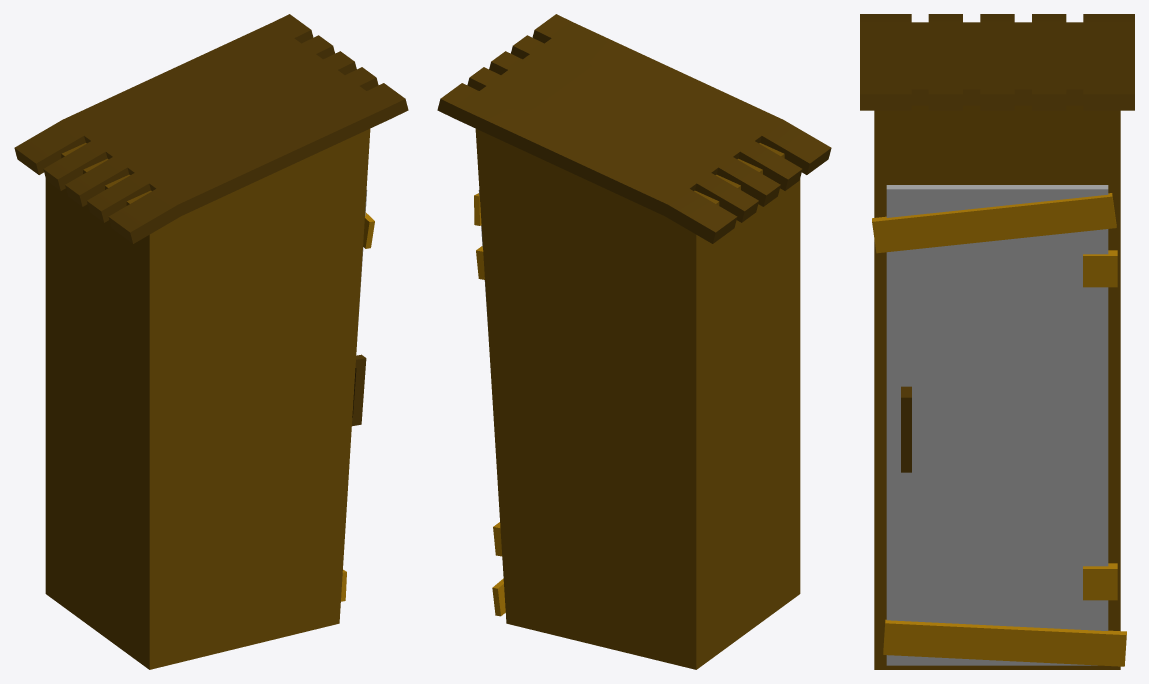
File: outhouse_placeholder.fbx
3 renders of one model, left to right at view 1: azimuth 30°, elevation 25°; view 2: azimuth 150°, elevation 25°; view 3: azimuth 270°, elevation 25°, orthographic. The views are drawn at different scales.
Parts seen in each view (by area): view 1: pCube1, pCube2, pCube8; view 2: pCube1, pCube2; view 3: pCube3, pCube1, pCube2, pCube7, pCube5, pCube10, pCube9, pCube8.
Boxes of the visible parts, left/top/right/bottom form: pCube1: left=45, top=129, right=370, bottom=669; pCube2: left=14, top=14, right=408, bottom=243; pCube8: left=352, top=354, right=366, bottom=426; pCube1: left=475, top=129, right=800, bottom=669; pCube2: left=437, top=14, right=831, bottom=243; pCube3: left=886, top=185, right=1108, bottom=665; pCube1: left=874, top=105, right=1120, bottom=669; pCube2: left=860, top=14, right=1134, bottom=110; pCube7: left=883, top=619, right=1126, bottom=666; pCube5: left=872, top=193, right=1116, bottom=253; pCube10: left=1083, top=563, right=1117, bottom=600; pCube9: left=1083, top=250, right=1117, bottom=287; pCube8: left=901, top=386, right=911, bottom=472.
Bounding box in the file's own units: 1.55 × 2.74 × 1.12.
